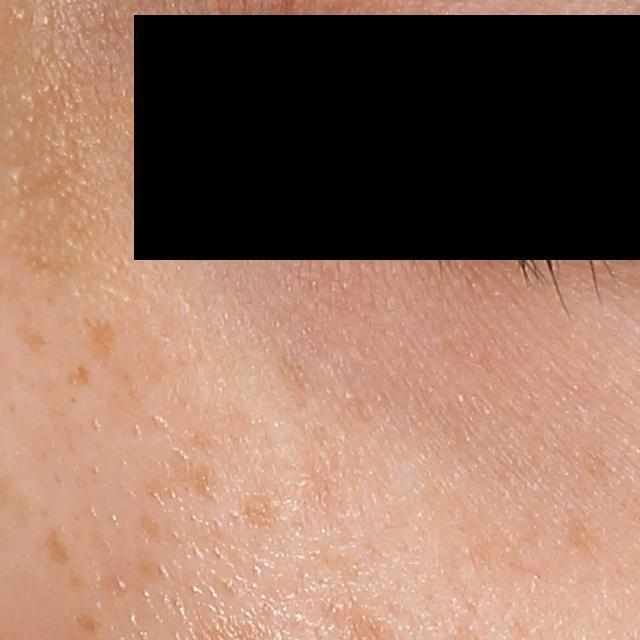melasma: (150, 446, 221, 506), (236, 490, 286, 536), (39, 524, 75, 567), (14, 320, 51, 358), (63, 361, 98, 393), (71, 609, 107, 637), (138, 508, 165, 544)
